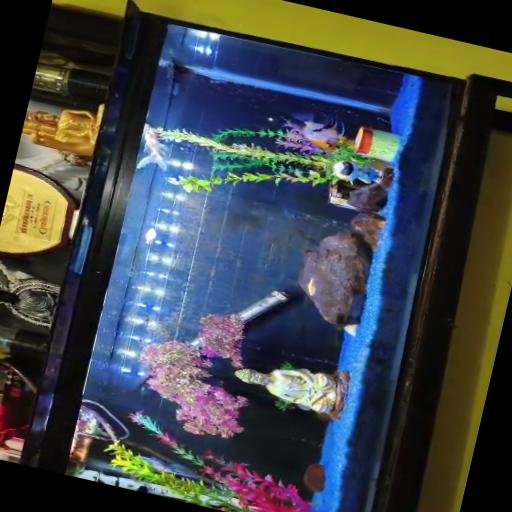Fish: (294, 114, 344, 150), (137, 125, 167, 169), (145, 229, 157, 243), (307, 279, 316, 296)
